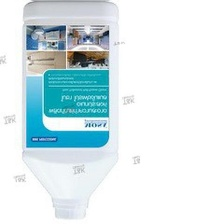cleaning_solution: (19, 0, 121, 221)
